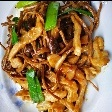chashugu: (0, 0, 105, 111)
